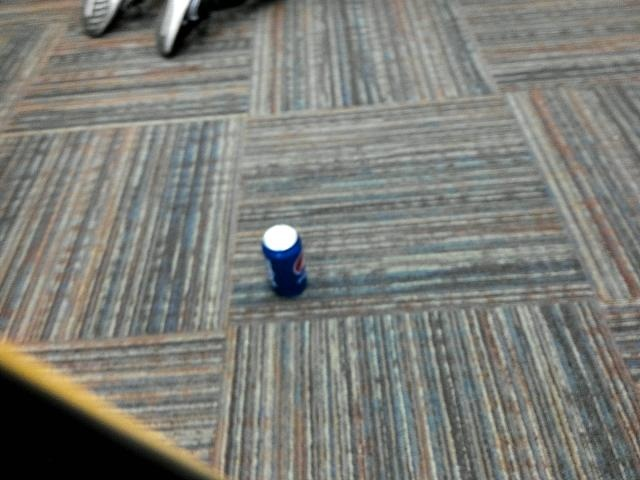can: (256, 221, 318, 301)
